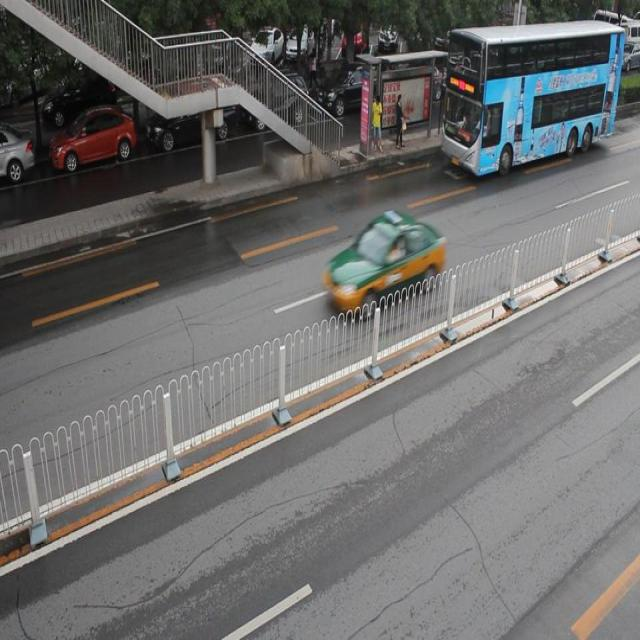car: (318, 211, 446, 318), (50, 105, 136, 172), (145, 93, 237, 154), (313, 63, 389, 123), (244, 72, 307, 128), (1, 126, 33, 181)
van: (441, 15, 624, 179)
